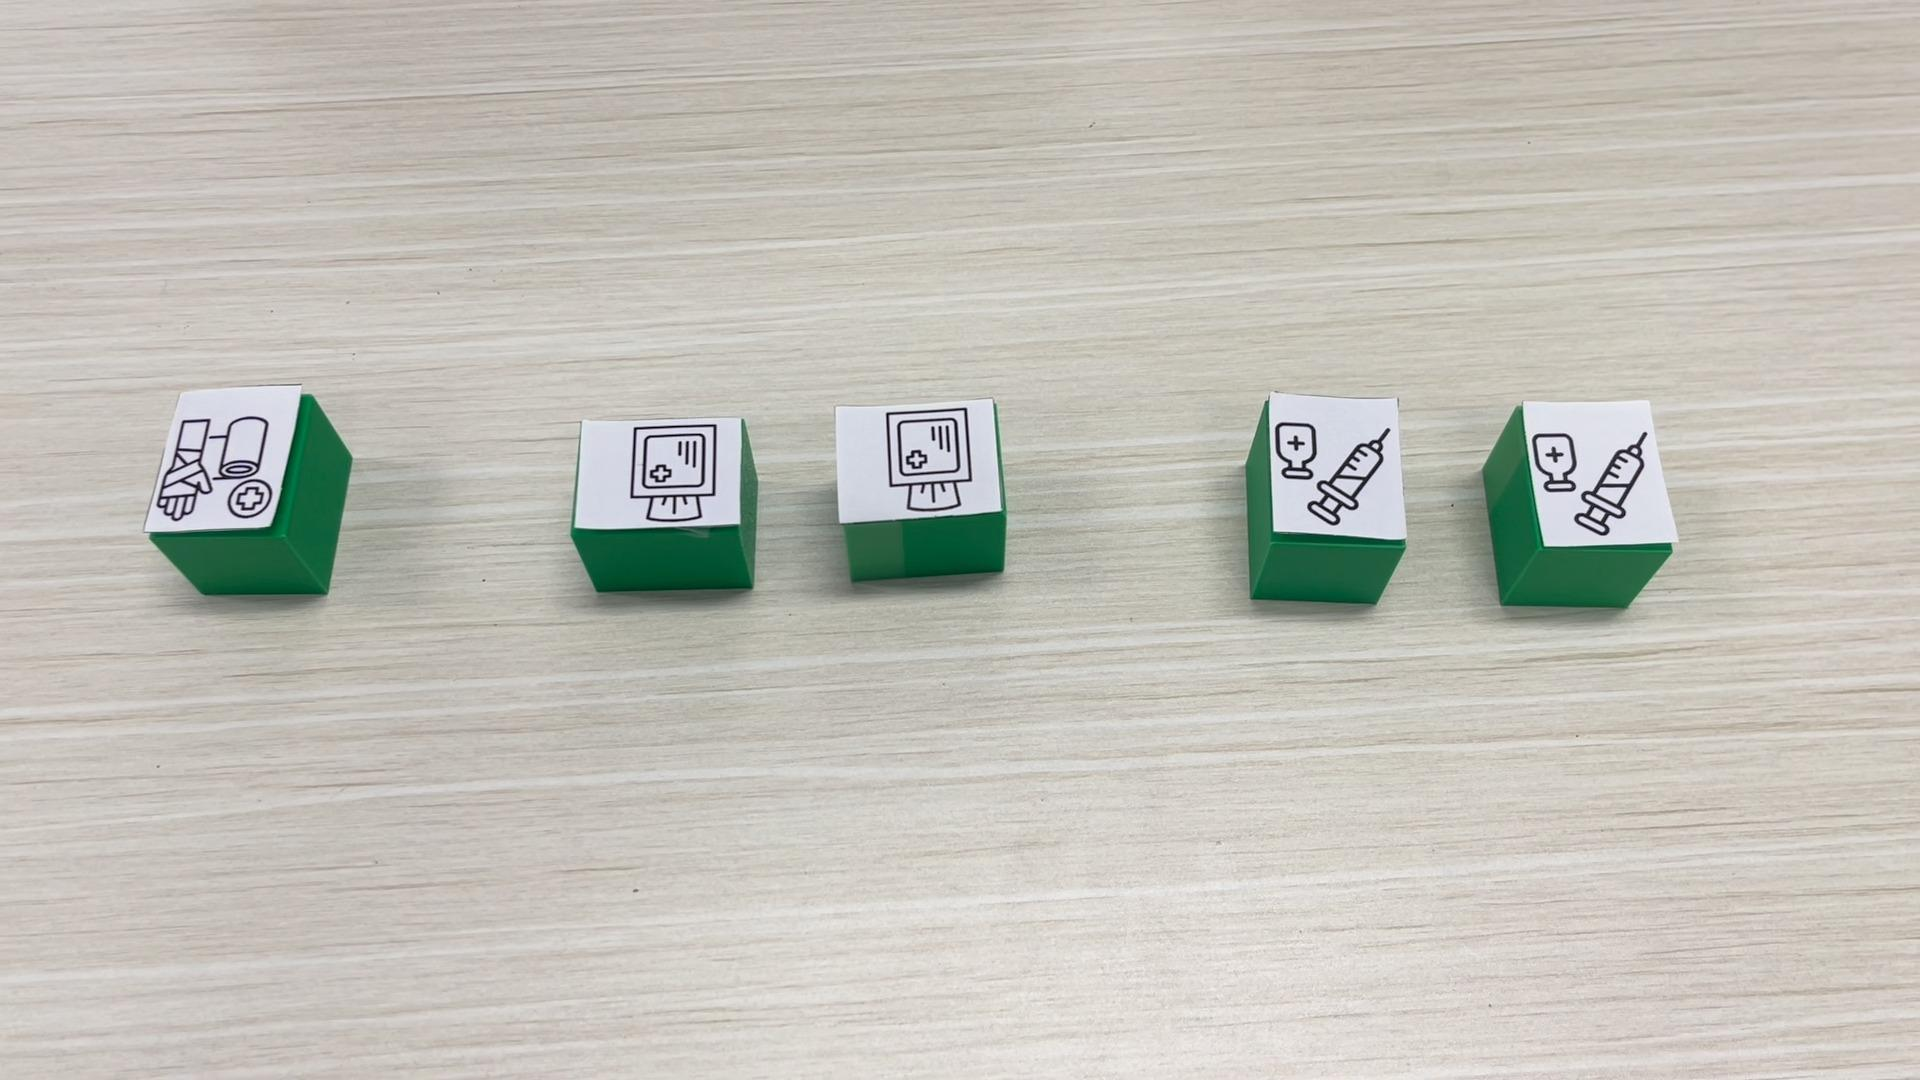Bandages: (142, 382, 351, 595)
Gauze: (570, 413, 756, 592), (833, 396, 1009, 582)
antiseptic cream: (1481, 397, 1680, 608), (1241, 390, 1404, 605)
